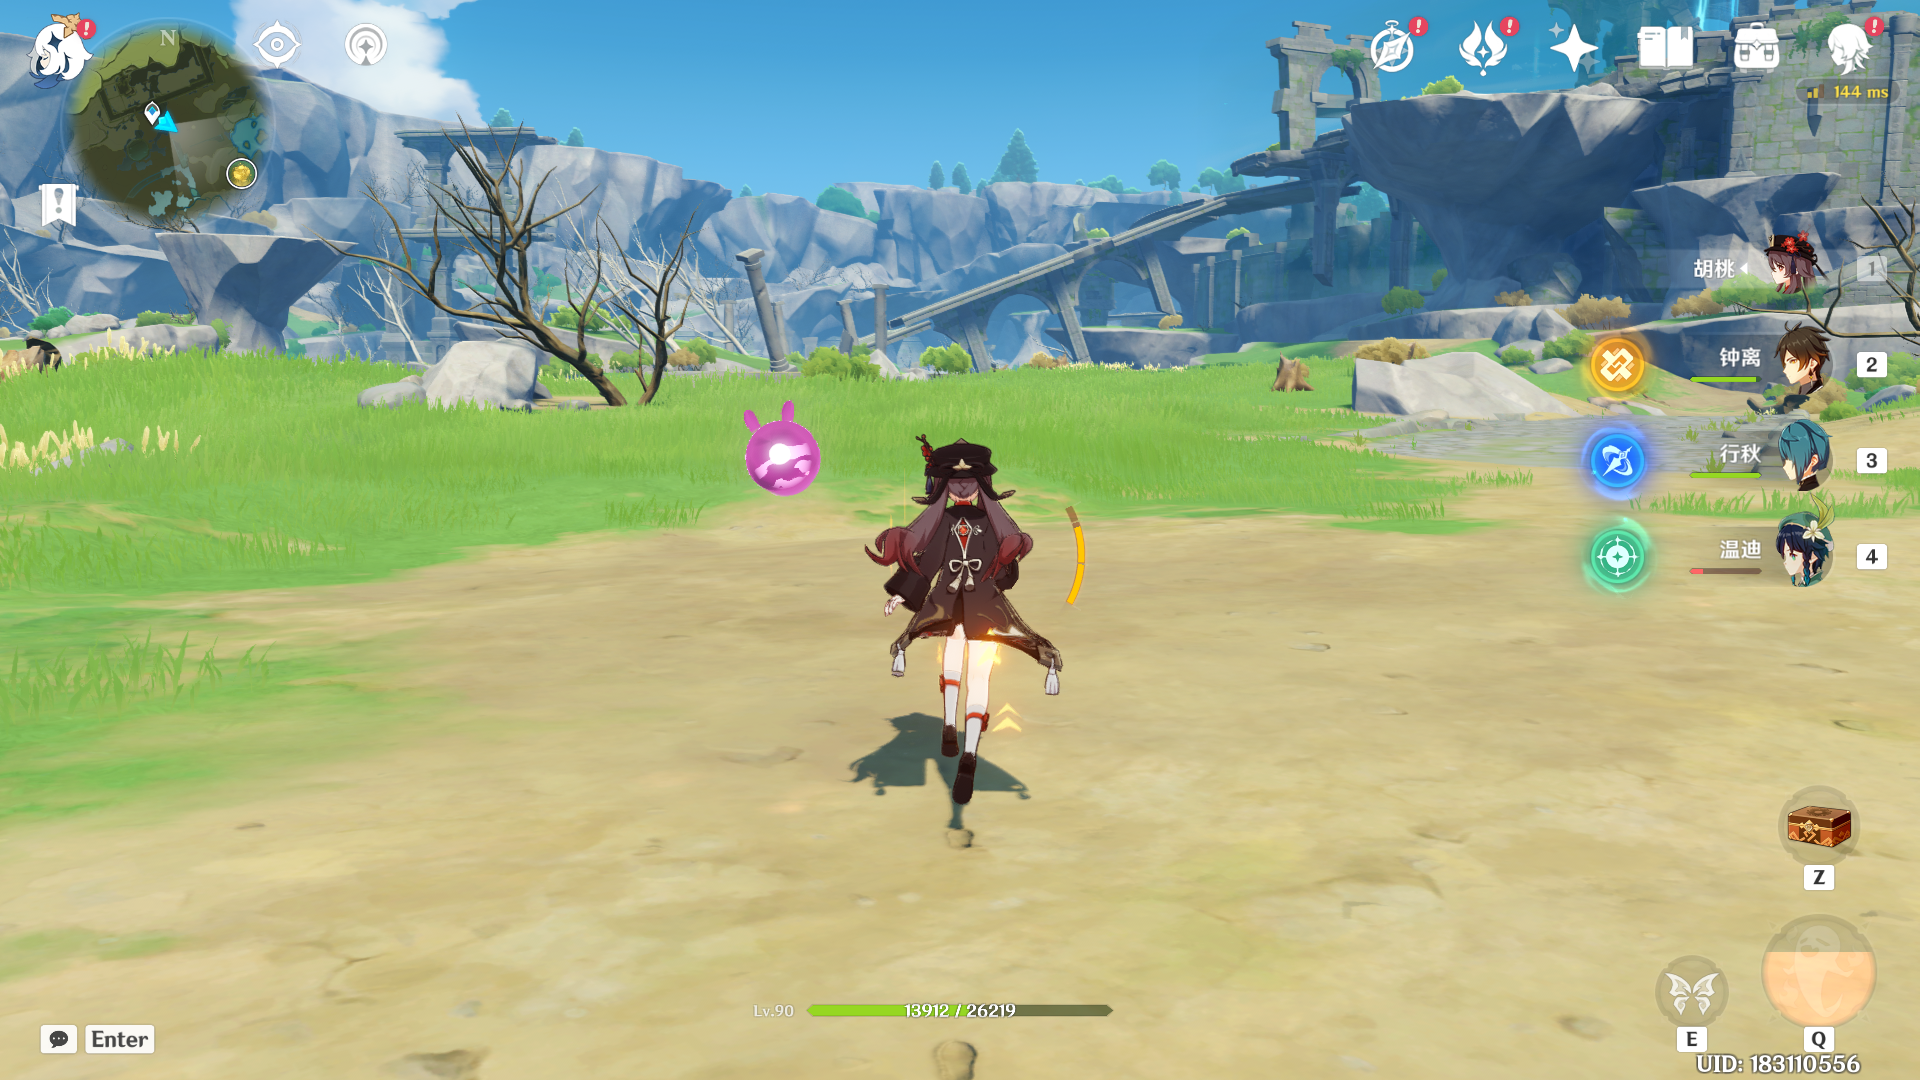character: (851, 404, 1105, 829)
